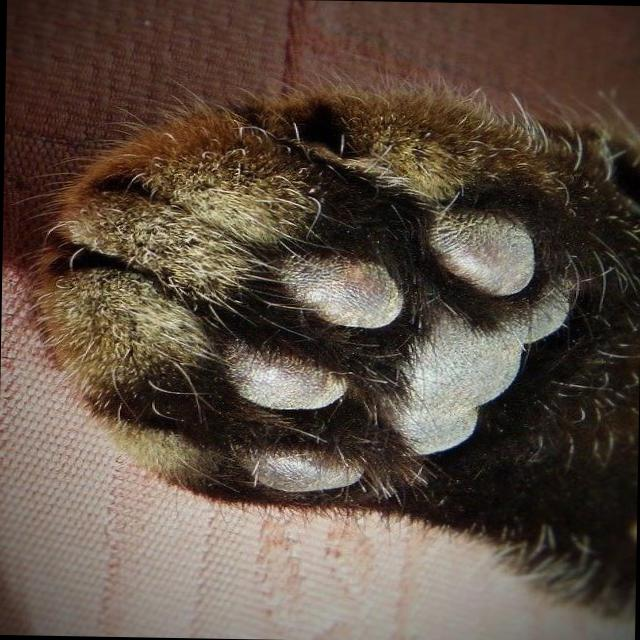Healthy skin: (122, 136, 258, 259), (517, 386, 626, 534), (394, 114, 471, 173), (74, 306, 138, 356)
